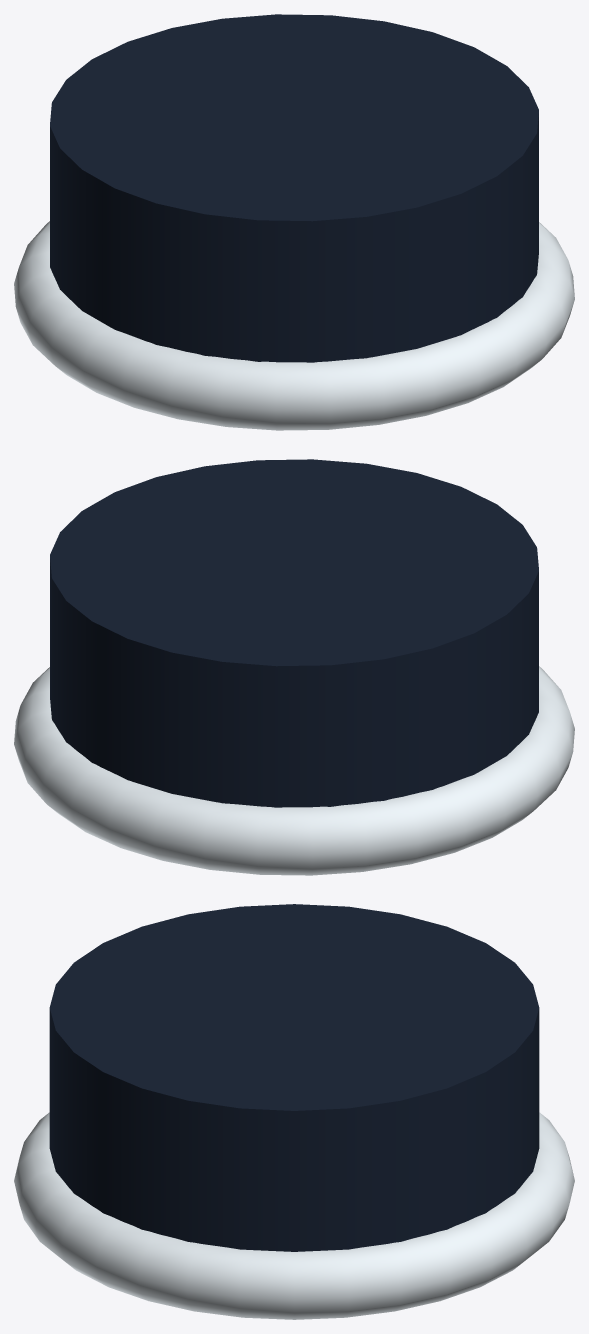
The model's file is light-recessed.glb.
3 views of the same model, one above another, from view 1: azimuth 30°, elevation 25°; view 2: azimuth 150°, elevation 25°; view 3: azimuth 270°, elevation 25° (orthographic).
Parts seen in each view (by area): view 1: Recessed light; view 2: Recessed light; view 3: Recessed light.
Part boxes in pixels (x1,y1,x2,y2): Recessed light: [14, 14, 574, 430]; Recessed light: [14, 459, 574, 875]; Recessed light: [14, 904, 574, 1319].
Bounding box in the file's own units: 1.1 × 0.445 × 1.1.
